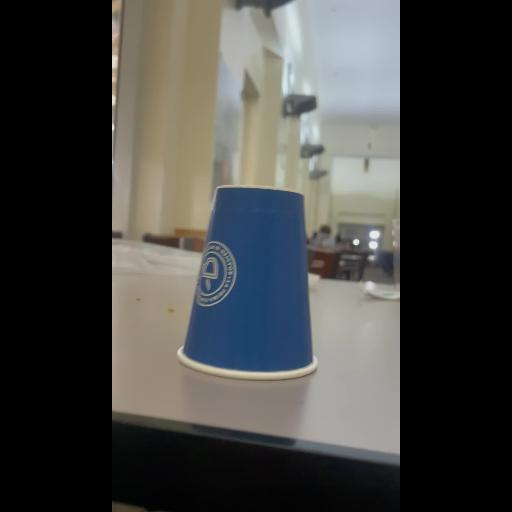lp_paper_cup: (184, 180, 328, 382)
